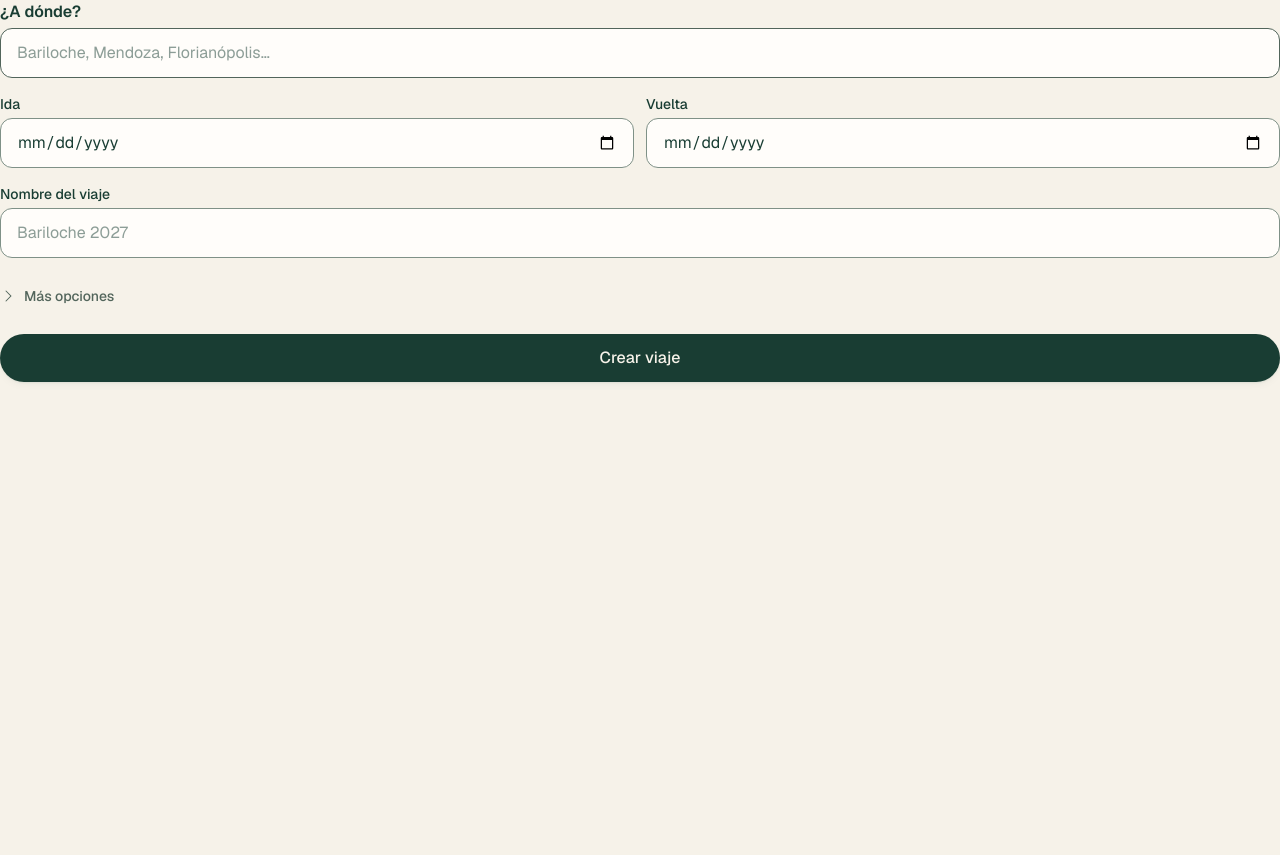
Test case: CreateTripForm suggested name › starts empty and follows the destination
Expected: the field labelled "Nombre del viaje" is empty, [0,208,1279,258]
Type "Mendoza, Argentina" into the field labelled "¿A dónde?" at (640, 53), box [0,28,1279,78]
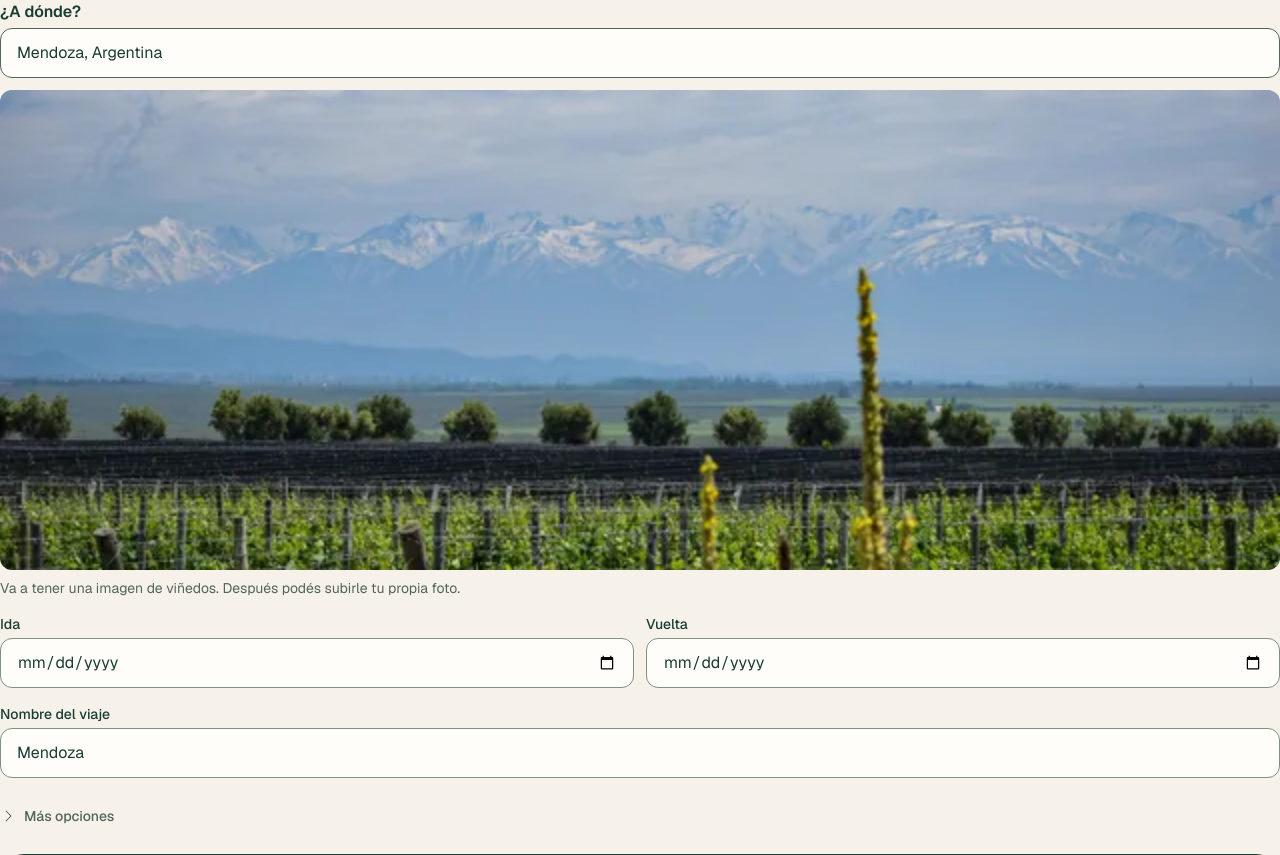
Result: the field labelled "Nombre del viaje" holds "Mendoza" at [0,728,1279,778]
